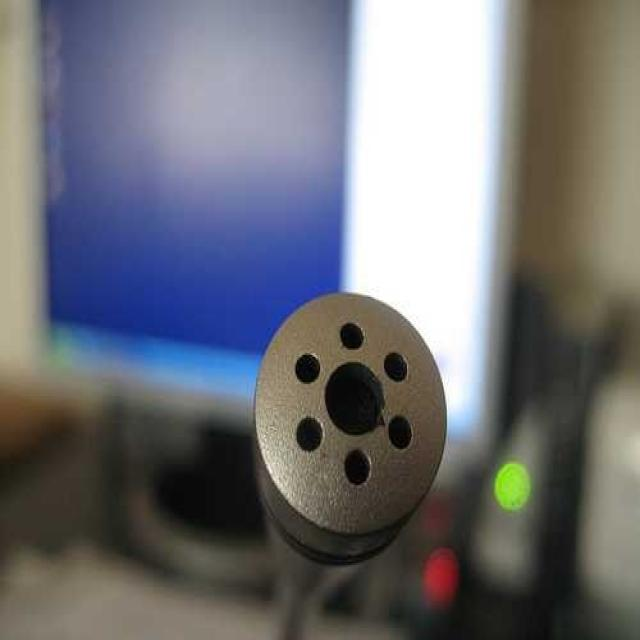microphone: (242, 282, 455, 590)
